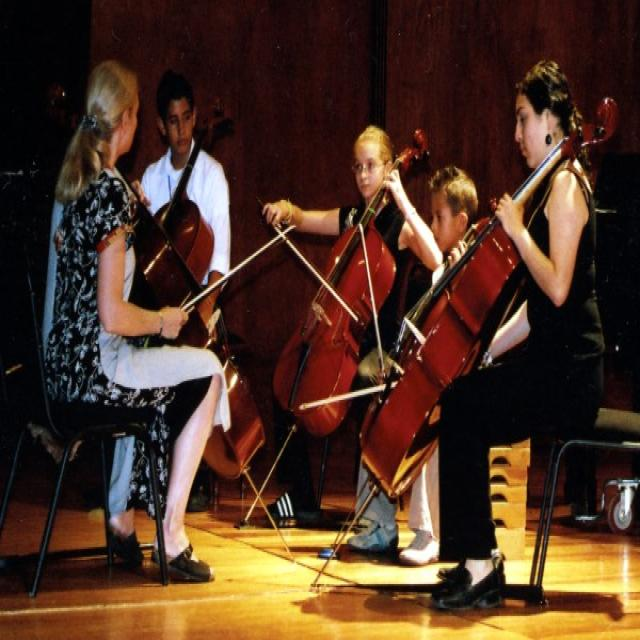cello: (361, 98, 621, 492), (272, 130, 428, 433), (117, 183, 266, 482), (154, 100, 228, 281)
